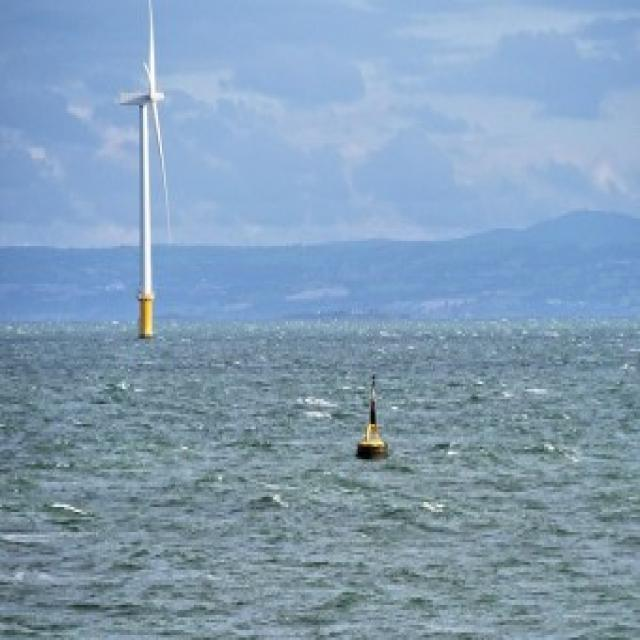marque: (353, 363, 393, 465)
